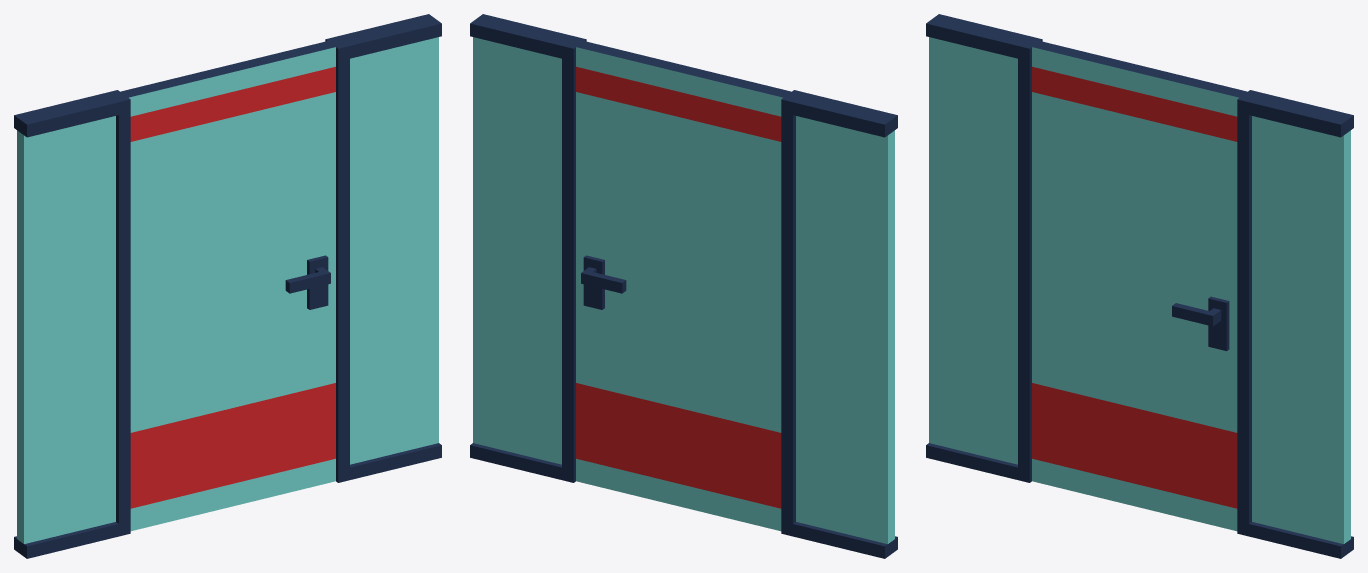
File: graybox door 1x2.fbx
3 renders of one model, left to right at view 1: azimuth 30°, elevation 25°; view 2: azimuth 150°, elevation 25°; view 3: azimuth 330°, elevation 25°, orthographic.
Parts seen in each view (by area): view 1: Door2x2; view 2: Door2x2; view 3: Door2x2.
Boxes of the visible parts, box(x1,y1,x2,y2) form: Door2x2: box(14, 14, 441, 558); Door2x2: box(470, 14, 897, 558); Door2x2: box(926, 14, 1353, 558).
Size of the model in its own units: 2 by 2 by 0.2493.
